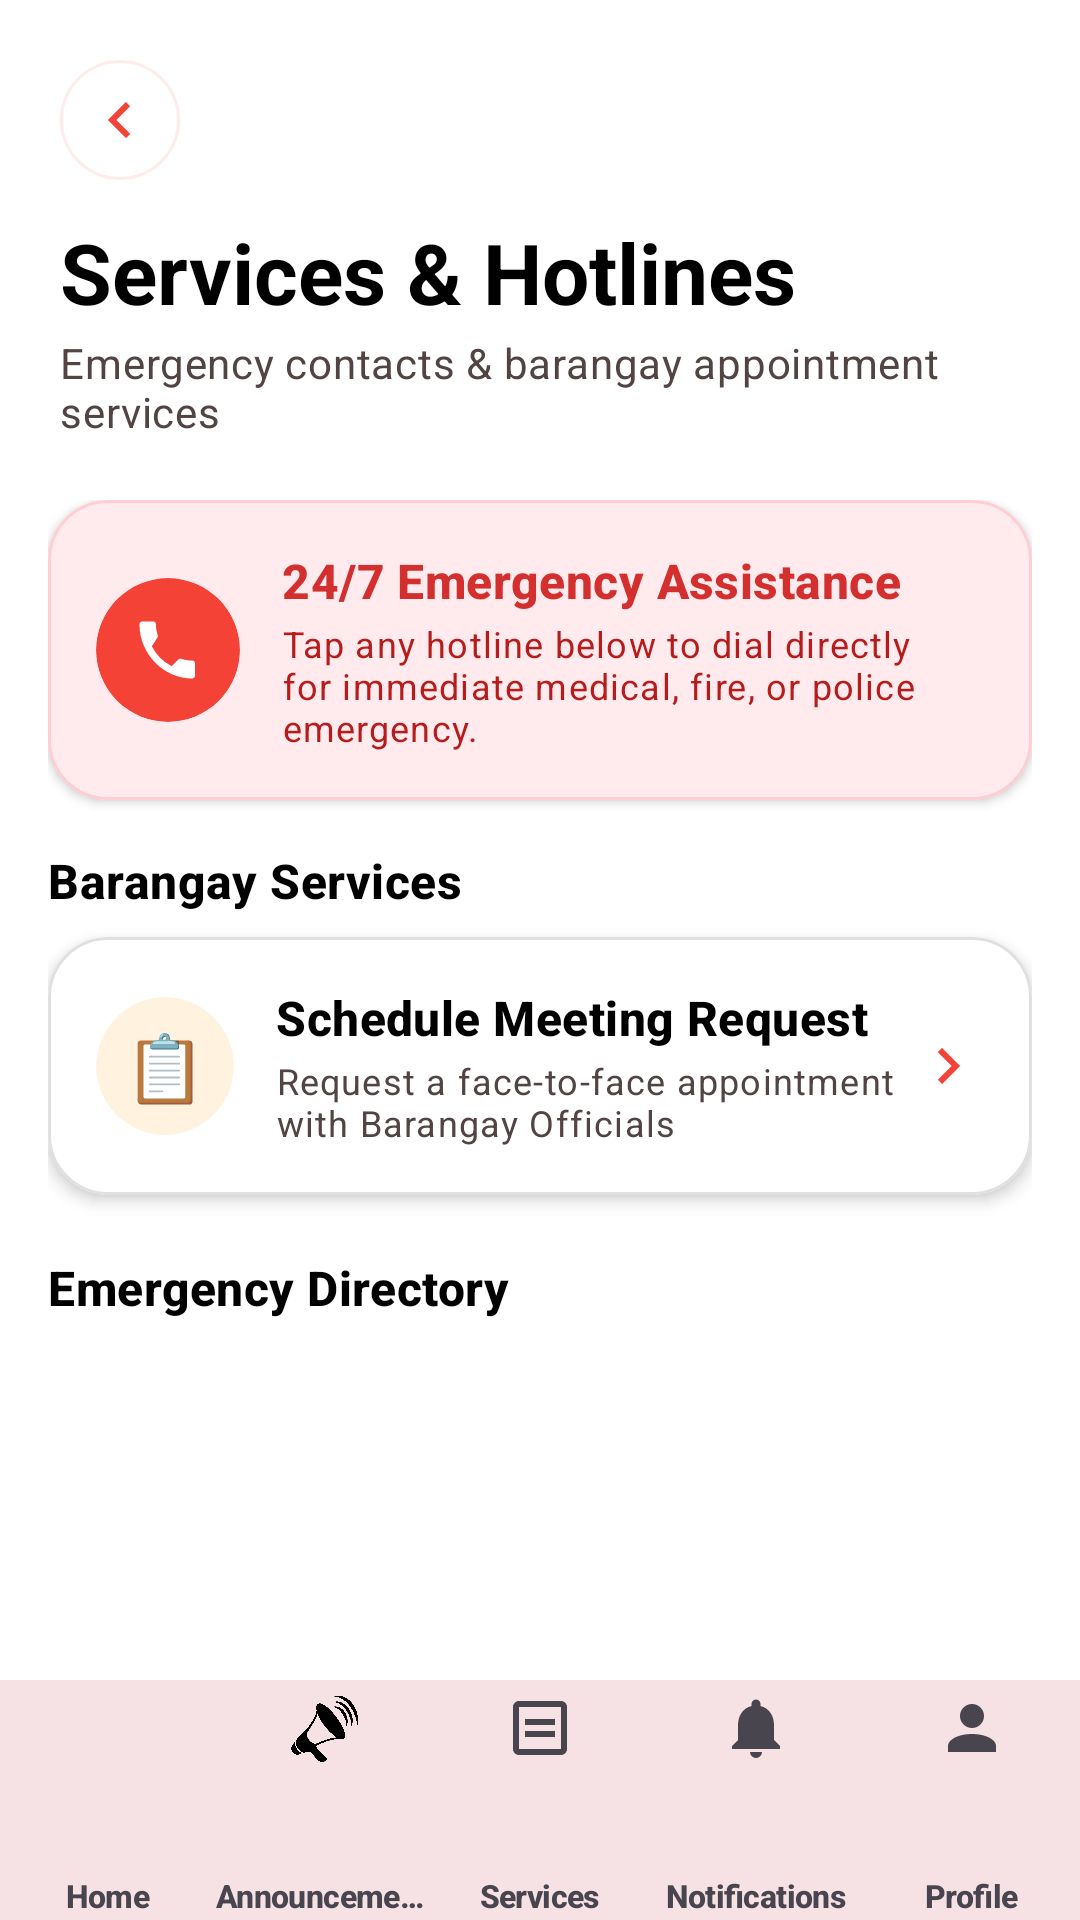

Where to tap for icons on this 1080px×1920px app screen, as point (x, y):
arrow next: point (949, 1066)
emergency call: point (167, 650)
